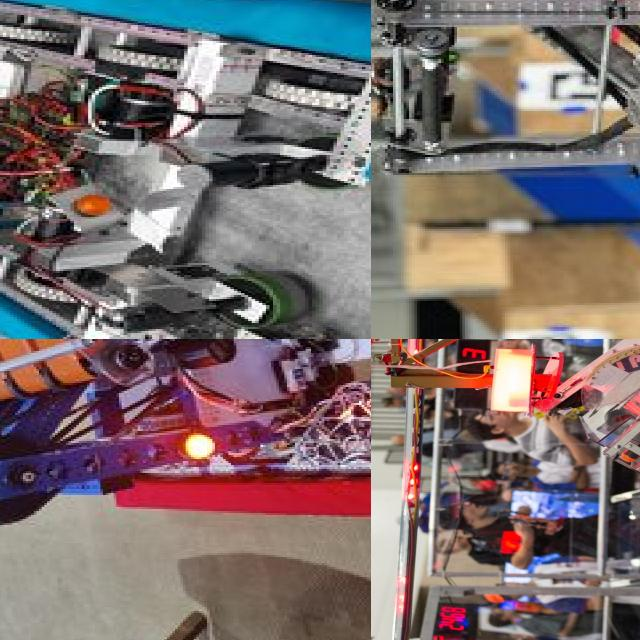FRC-Robots: (0, 0, 371, 339), (0, 339, 371, 564), (371, 0, 640, 255), (495, 339, 640, 511)
